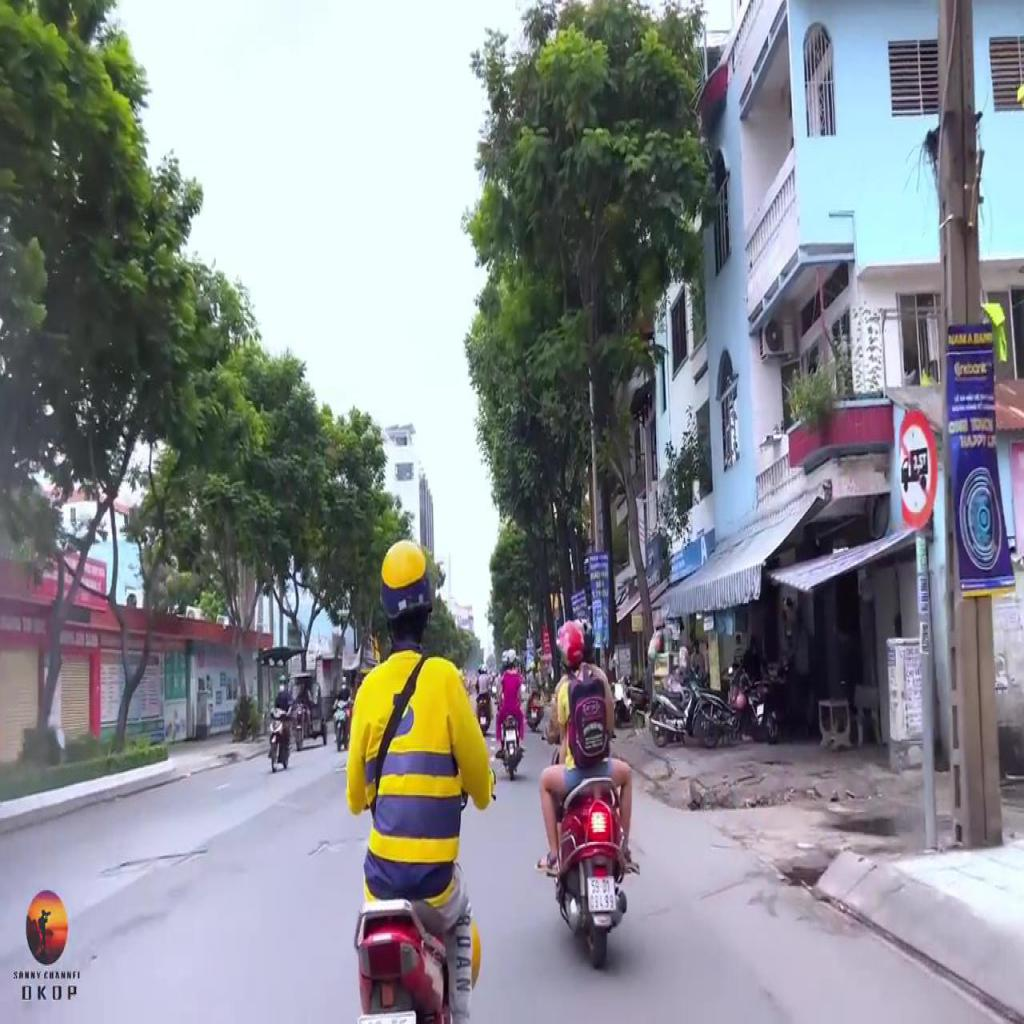cam_o_to_tai_trong_luong_qua_2-5t: (900, 410, 938, 526)
